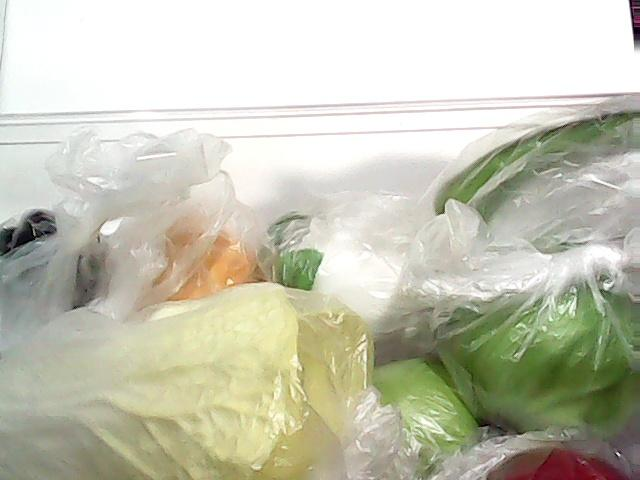apple: (367, 359, 481, 453), (481, 446, 635, 480)
cabbage: (448, 270, 640, 434)
grape: (1, 185, 108, 293)
lemon: (125, 204, 262, 312)
napa cabbage: (6, 275, 372, 480)
pepper: (412, 83, 640, 242)
radish: (258, 201, 446, 335)
